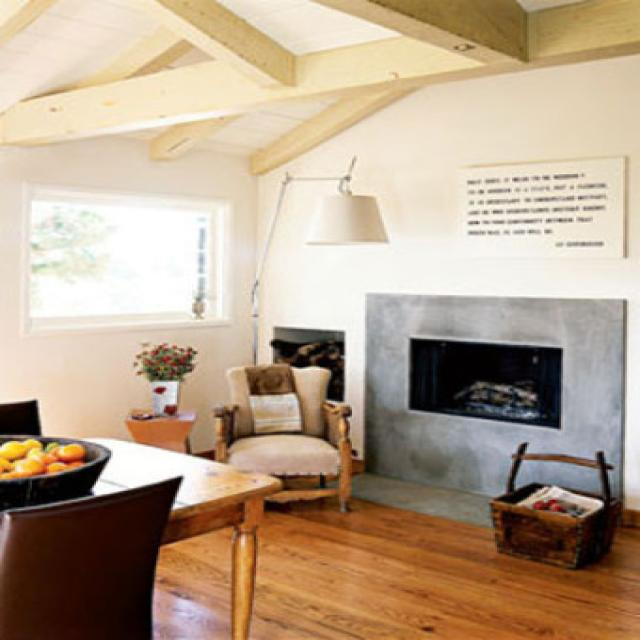Chair: (220, 360, 370, 523)
tv: (405, 335, 565, 434)
window: (24, 188, 226, 321)
